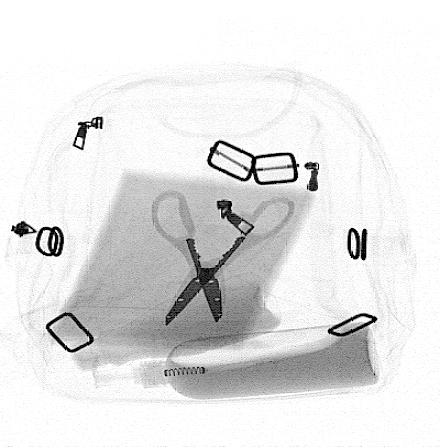Scissors: (152, 188, 294, 325)
